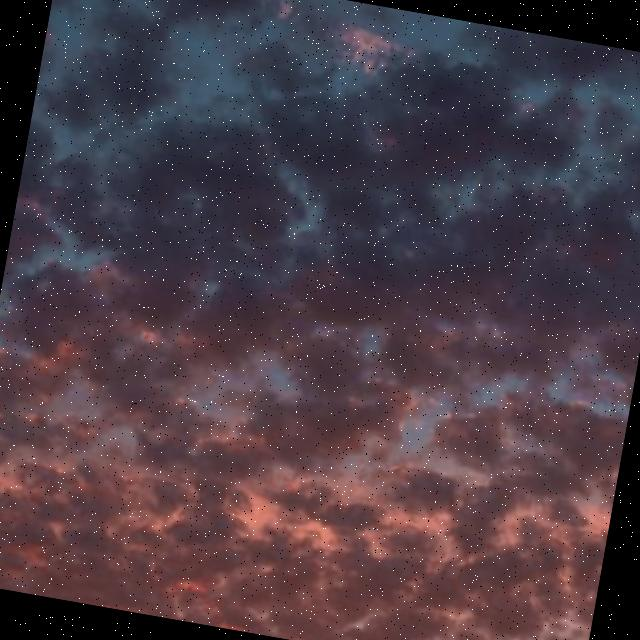Ac: (1, 1, 640, 627)
